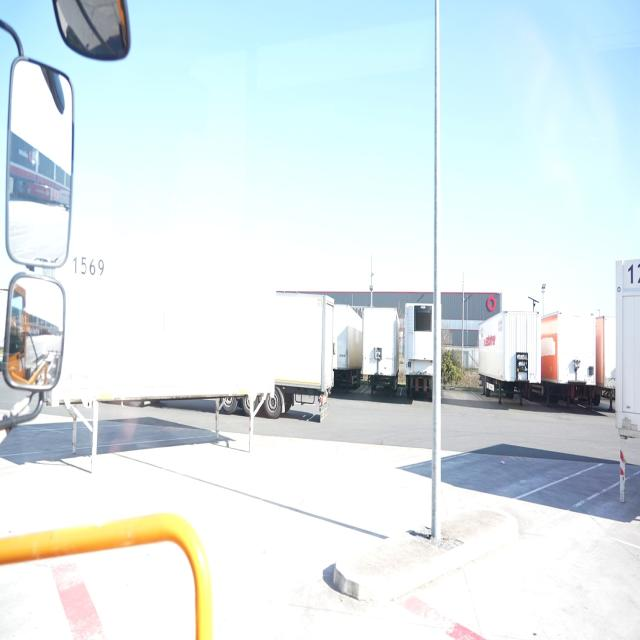Code: (69, 246, 106, 284)
